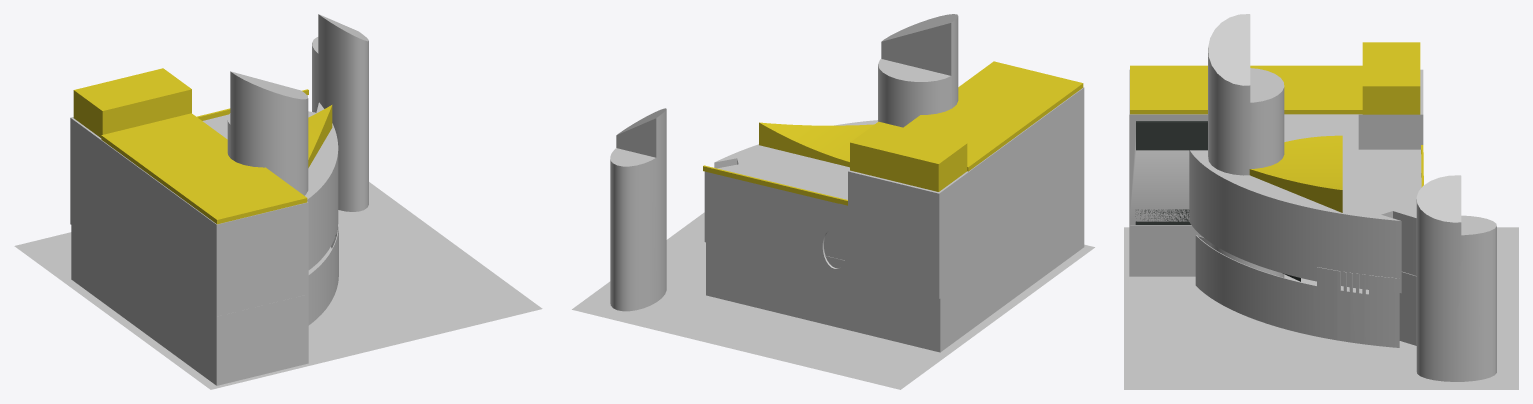
Rendered from Bacc_.glb.
3 renders of one model, left to right at view 1: azimuth 30°, elevation 25°; view 2: azimuth 150°, elevation 25°; view 3: azimuth 270°, elevation 25°, orthographic.
Visible parts, largest first — view 1: Group4, Model, Group2, Difference, Cube, Cube.002, Difference1; view 2: Group4, Group2, Model, Difference, Cube, Cube.002, Difference1, Cube.001; view 3: Group4, Model, Difference, Group2, Cube, Difference1, Cube.002, Cube.003.
Boxes of the visible parts, x1,y1,x2,y2 form: Group4: (70, 102, 338, 330); Model: (14, 182, 542, 389); Group2: (71, 218, 338, 385); Difference: (227, 14, 368, 211); Cube: (101, 113, 307, 224); Cube.002: (73, 68, 191, 137); Difference1: (308, 105, 332, 167); Group4: (704, 87, 1084, 298); Group2: (706, 193, 1084, 352); Model: (572, 212, 1094, 389); Difference: (610, 14, 958, 311); Cube: (903, 61, 1083, 171); Cube.002: (850, 121, 967, 191); Difference1: (759, 122, 874, 167); Cube.001: (703, 165, 847, 205); Group4: (1129, 69, 1423, 293); Model: (1124, 209, 1518, 389); Difference: (1208, 14, 1496, 381); Group2: (1129, 207, 1416, 347); Cube: (1130, 65, 1362, 114); Difference1: (1249, 135, 1342, 212); Cube.002: (1362, 42, 1420, 114); Cube.003: (1136, 121, 1207, 150).
Bounding box in the file's own units: 11660 × 8537 × 11958.
